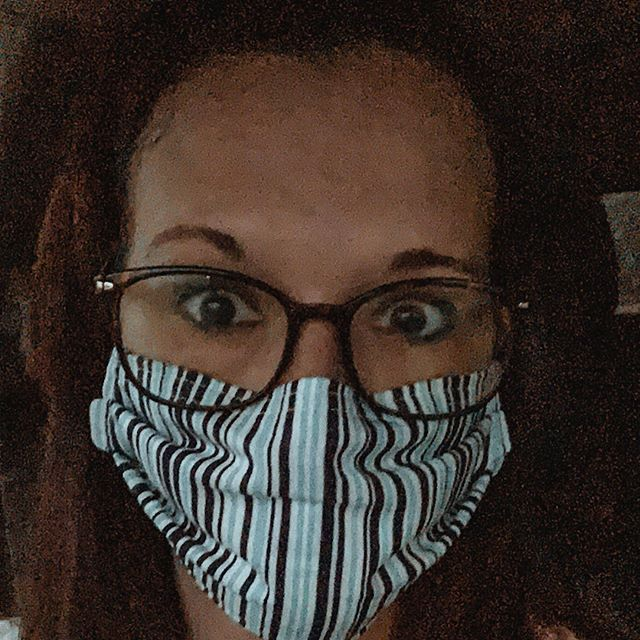homemade: (100, 360, 503, 640)
